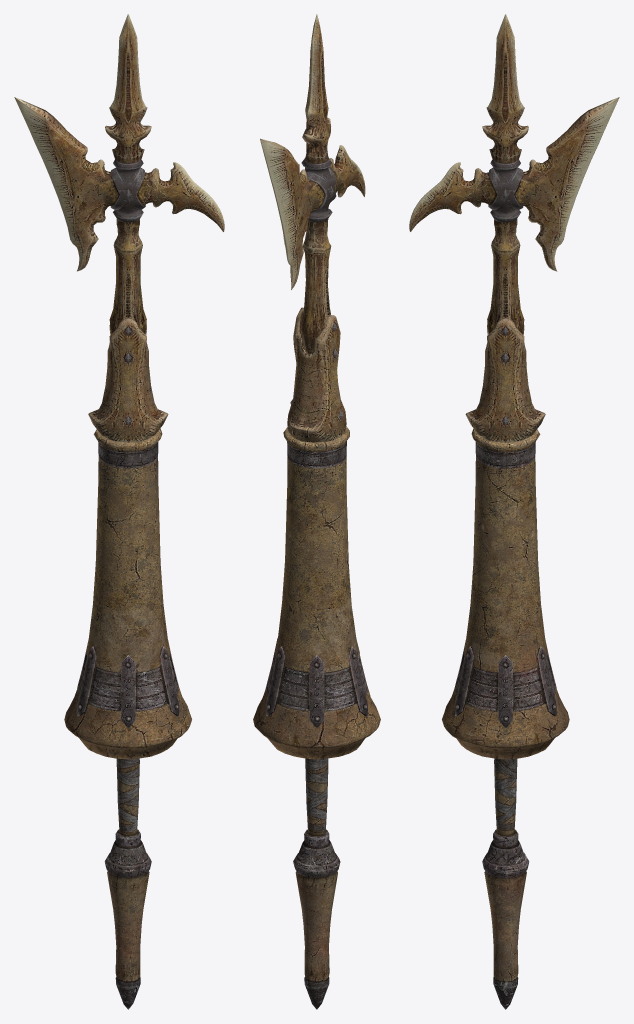
File: bs_lan011.obj
The picture shows the model from 3 angles, left to right: view 1: azimuth 90°, elevation 25°; view 2: azimuth 150°, elevation 25°; view 3: azimuth 270°, elevation 25°; orthographic projection.
Parts seen in each view (by area): view 1: bs_lan011_000_LOD_1, bs_lan011_003_LOD_1, bs_lan011_001_LOD_1, bs_lan011_002_LOD_1; view 2: bs_lan011_000_LOD_1, bs_lan011_003_LOD_1, bs_lan011_001_LOD_1, bs_lan011_002_LOD_1; view 3: bs_lan011_000_LOD_1, bs_lan011_003_LOD_1, bs_lan011_001_LOD_1, bs_lan011_002_LOD_1.
Boxes of the visible parts, box(x1,y1,x2,y2) form: bs_lan011_000_LOD_1: box(64, 428, 191, 759); bs_lan011_003_LOD_1: box(14, 14, 224, 334); bs_lan011_001_LOD_1: box(104, 758, 151, 1009); bs_lan011_002_LOD_1: box(88, 318, 168, 442); bs_lan011_000_LOD_1: box(253, 426, 380, 759); bs_lan011_003_LOD_1: box(260, 14, 365, 353); bs_lan011_001_LOD_1: box(293, 758, 340, 1009); bs_lan011_002_LOD_1: box(287, 307, 346, 442); bs_lan011_000_LOD_1: box(442, 428, 569, 759); bs_lan011_003_LOD_1: box(409, 14, 619, 334); bs_lan011_001_LOD_1: box(482, 758, 529, 1009); bs_lan011_002_LOD_1: box(465, 318, 545, 442).
Size of the model in its own units: 44.78 by 386 by 74.
